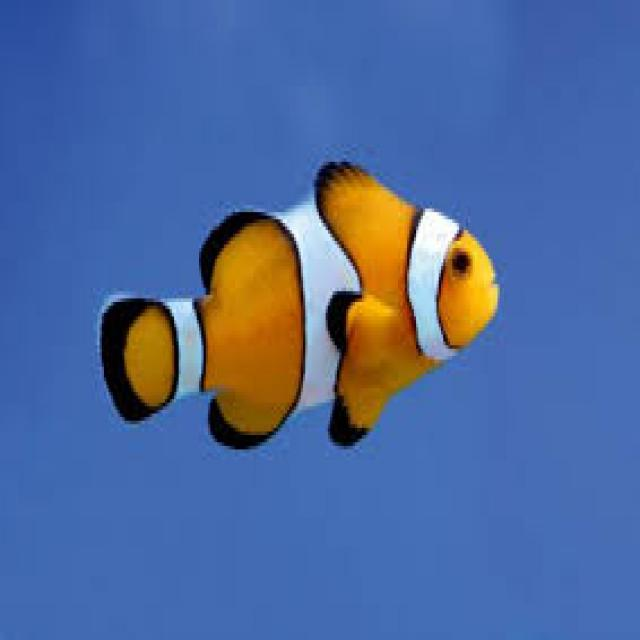Amphiprion-percula: (55, 131, 485, 498)
